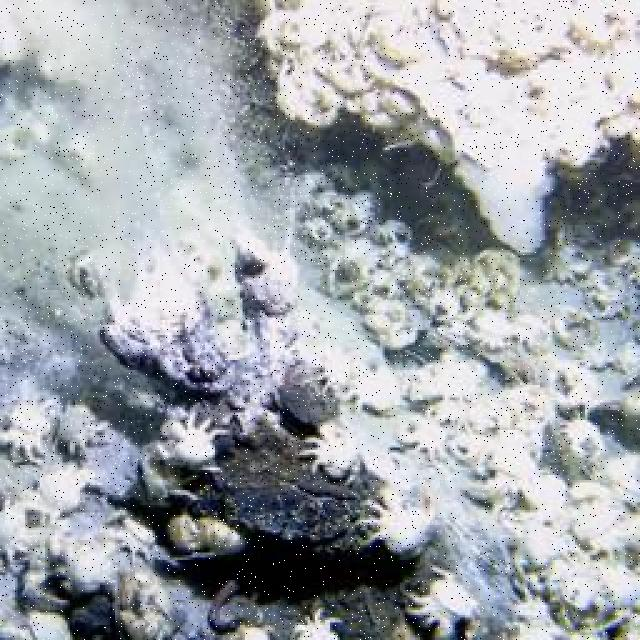reefs: (353, 487, 439, 551), (153, 410, 235, 471), (403, 576, 484, 637), (0, 397, 62, 465), (294, 424, 361, 483), (396, 415, 454, 466)
sea-floor: (255, 1, 638, 254)
